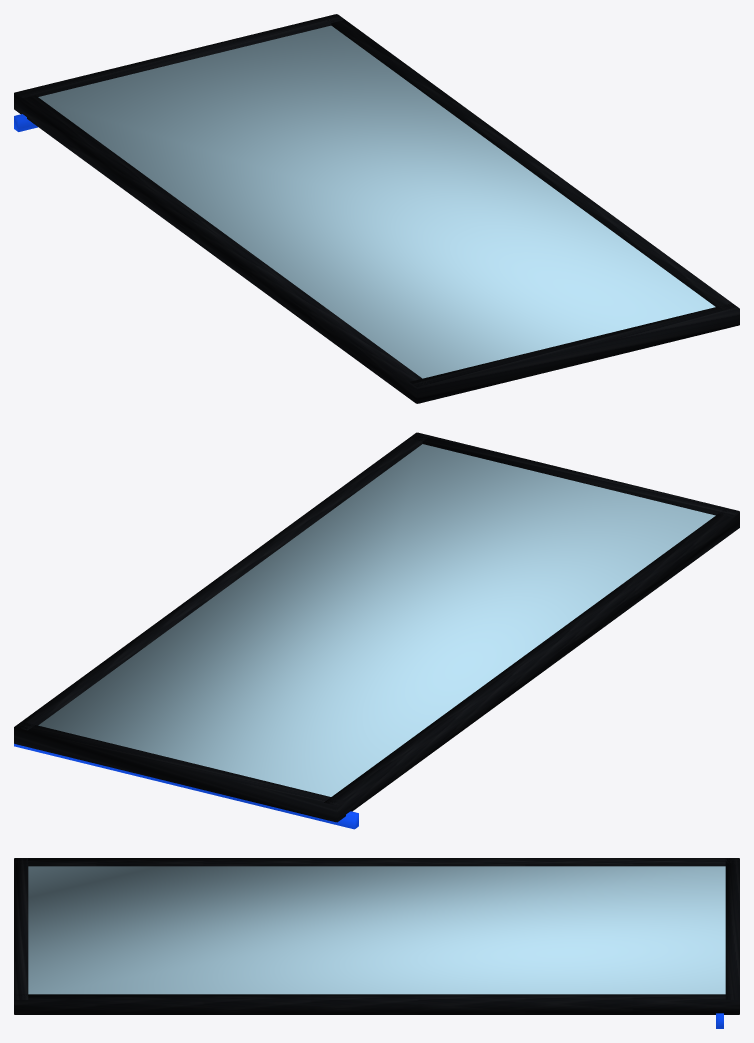
Rendered from ARCH_GLASS_DOOR_001.glb.
3 views of the same model, one above another, from view 1: azimuth 30°, elevation 25°; view 2: azimuth 150°, elevation 25°; view 3: azimuth 270°, elevation 25° (orthographic). The views are drawn at different scales.
Visible parts, largest first — view 1: glass_panel_000, side_frame_003, top_frame_001, side_frame_004, bottom_frame_002; view 2: glass_panel_000, side_frame_003, bottom_frame_002, side_frame_004, top_frame_001, floor_blue_glow_006; view 3: glass_panel_000, side_frame_004, side_frame_003, bottom_frame_002, top_frame_001.
Boxes of the visible parts, left/top/right/bottom form: glass_panel_000: left=38, top=25, right=715, bottom=378; side_frame_003: left=14, top=92, right=429, bottom=403; top_frame_001: left=410, top=303, right=739, bottom=403; side_frame_004: left=325, top=14, right=739, bottom=324; bottom_frame_002: left=14, top=14, right=343, bottom=97; glass_panel_000: left=38, top=444, right=715, bottom=796; side_frame_003: left=324, top=508, right=739, bottom=822; bottom_frame_002: left=14, top=722, right=343, bottom=822; side_frame_004: left=14, top=432, right=429, bottom=742; top_frame_001: left=410, top=432, right=739, bottom=516; floor_blue_glow_006: left=14, top=743, right=358, bottom=829; glass_panel_000: left=28, top=866, right=725, bottom=994; side_frame_004: left=14, top=994, right=739, bottom=1014; side_frame_003: left=14, top=858, right=739, bottom=866; bottom_frame_002: left=725, top=858, right=739, bottom=1014; top_frame_001: left=14, top=858, right=28, bottom=1014.
Size of the model in its own units: 1.1 by 0.088 by 2.26.
4 materials, 4 textured.
